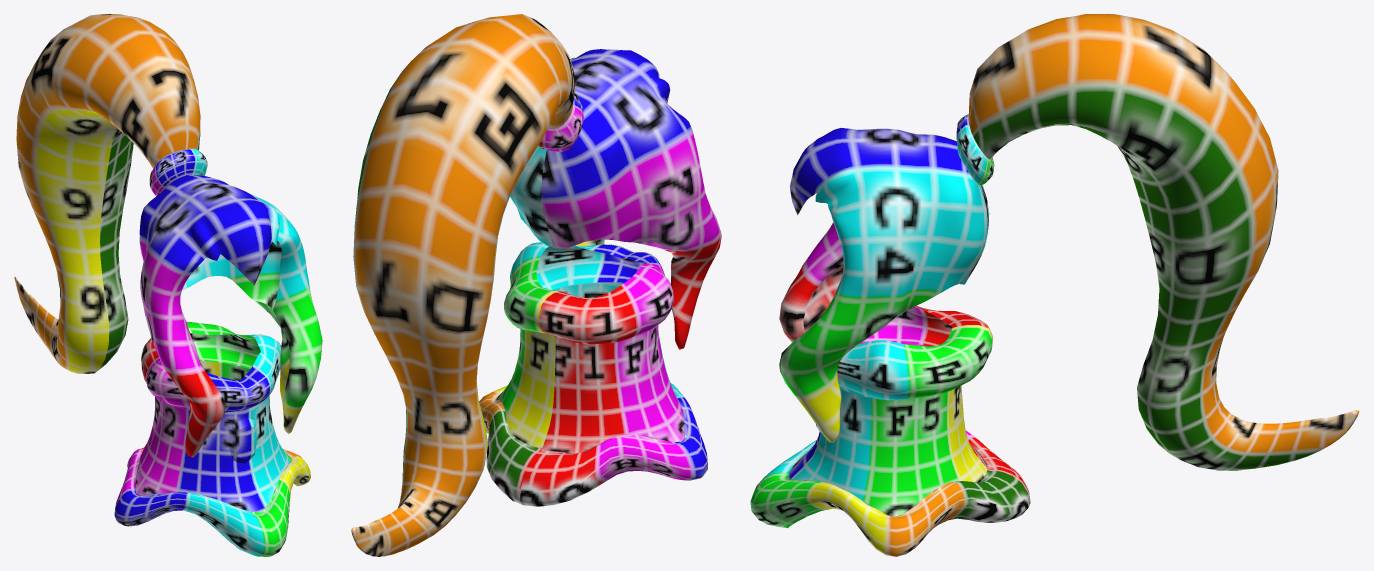
File: Princess_Low.FBX
3 views of the same model, side by side, from view 1: azimuth 30°, elevation 25°; view 2: azimuth 150°, elevation 25°; view 3: azimuth 270°, elevation 25° (orthographic). The views are drawn at different scales.
Visible parts, largest first — view 1: PrincessHair_Low, PrincessRobe_Low; view 2: PrincessHair_Low, PrincessRobe_Low; view 3: PrincessHair_Low, PrincessRobe_Low.
Boxes of the visible parts, left/top/right/bottom form: PrincessHair_Low: left=14, top=14, right=322, bottom=457; PrincessRobe_Low: left=114, top=322, right=310, bottom=556; PrincessHair_Low: left=351, top=14, right=721, bottom=556; PrincessRobe_Low: left=479, top=242, right=707, bottom=506; PrincessHair_Low: left=779, top=14, right=1359, bottom=470; PrincessRobe_Low: left=750, top=305, right=1030, bottom=556.
Size of the model in its own units: 33.31 by 72 by 78.33.
1 material, 1 textured.
